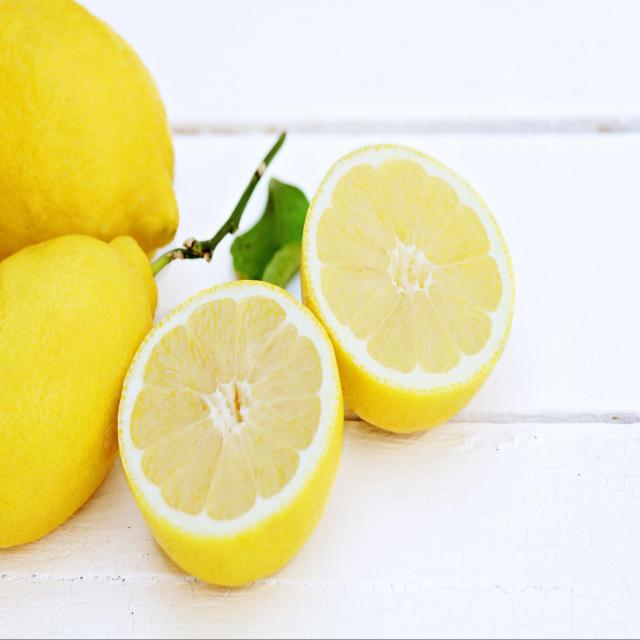lemon: (110, 272, 348, 597), (298, 138, 518, 442)
